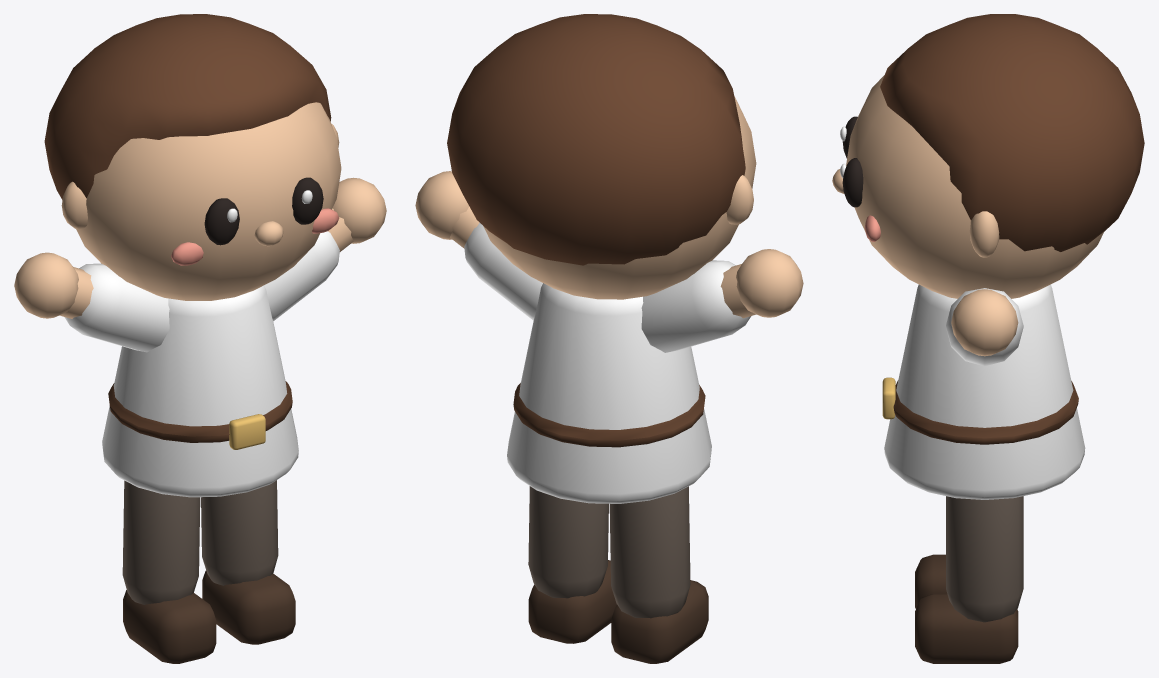
File: CHR_Resident_A_LOD0.glb
The picture shows the model from 3 angles, left to right: view 1: azimuth 30°, elevation 25°; view 2: azimuth 150°, elevation 25°; view 3: azimuth 270°, elevation 25°; orthographic projection. The views are drawn at different scales.
Parts seen in each view (by area): view 1: head, hair, tunic, leg_left, leg_right, arm_left, leg_left_boot, leg_right_boot, arm_left_hand, arm_right, belt, arm_right_hand (+7 smaller); view 2: hair, tunic, leg_left, head, leg_right, arm_left, leg_left_boot, leg_right_boot, belt, arm_left_hand, arm_right, arm_right_hand (+3 smaller); view 3: hair, tunic, head, leg_right, leg_right_boot, arm_right_hand, belt, arm_right, leg_left_boot, ear_1, eye_1, buckle.
Part boxes in pixels (x1,y1,x2,y2): head: (76, 102, 341, 300); hair: (44, 14, 331, 199); tunic: (102, 285, 298, 497); leg_left: (122, 480, 200, 604); leg_right: (201, 480, 278, 585); arm_left: (64, 263, 169, 352); leg_left_boot: (123, 590, 216, 663); leg_right_boot: (202, 570, 295, 644); arm_left_hand: (14, 252, 78, 318); arm_right: (264, 231, 339, 320); belt: (108, 381, 292, 442); arm_right_hand: (332, 177, 386, 243); hair: (447, 14, 745, 265); tunic: (507, 283, 711, 503); leg_left: (609, 486, 690, 618); head: (483, 96, 756, 299); leg_right: (528, 486, 608, 598); arm_left: (641, 260, 751, 352); leg_left_boot: (611, 580, 708, 663); leg_right_boot: (528, 560, 616, 643); belt: (513, 383, 705, 447); arm_left_hand: (736, 249, 803, 317); arm_right: (464, 222, 542, 320); arm_right_hand: (415, 171, 469, 239); hair: (880, 14, 1144, 251); tunic: (884, 284, 1085, 499); head: (846, 75, 1104, 298); leg_right: (946, 496, 1023, 622); leg_right_boot: (915, 594, 1018, 663); arm_right_hand: (951, 289, 1018, 356); belt: (893, 380, 1078, 444); arm_right: (946, 288, 1023, 366); leg_left_boot: (915, 554, 1018, 608); ear_1: (969, 211, 999, 257); eye_1: (842, 158, 863, 207); buckle: (882, 377, 895, 419).
Size of the model in its own units: 1.65 by 2.59 by 1.21.
